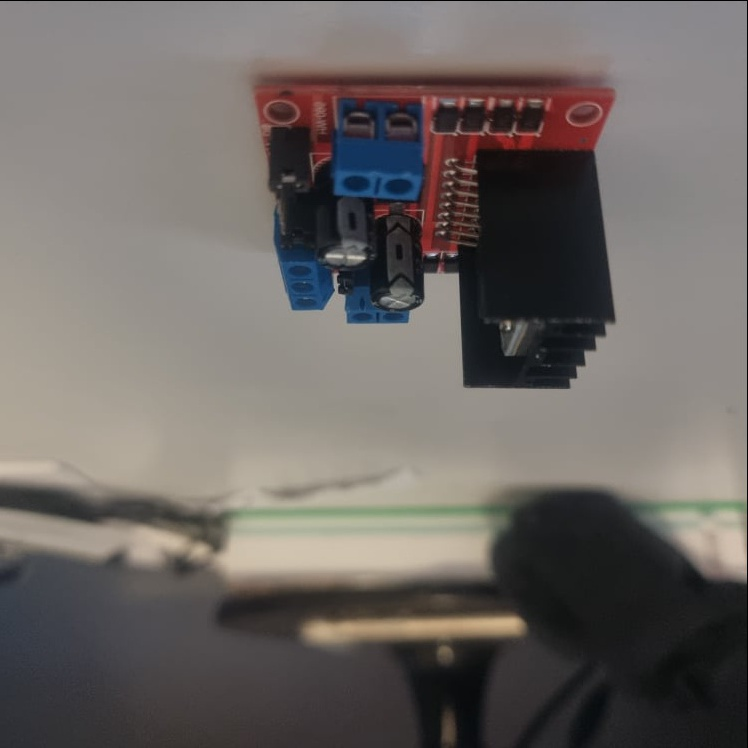MOTOR: (249, 80, 623, 391)
